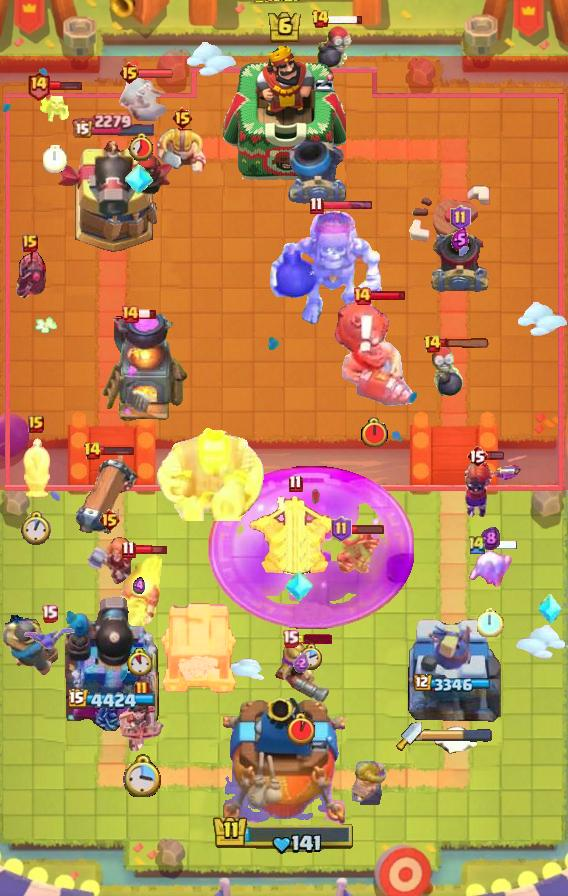bandit: (114, 69, 168, 121)
bar: (439, 338, 491, 349), (321, 200, 373, 211), (133, 543, 168, 556), (370, 290, 407, 301), (327, 14, 364, 25), (349, 524, 385, 535), (138, 68, 174, 79), (100, 445, 135, 456), (48, 80, 83, 91), (296, 634, 332, 644), (485, 540, 518, 550), (137, 308, 157, 320), (486, 450, 505, 461)
bar-level: (26, 70, 51, 101), (98, 508, 121, 532), (171, 106, 194, 130), (118, 61, 141, 85), (331, 516, 352, 542), (450, 205, 471, 231), (466, 444, 488, 468), (467, 534, 487, 555), (120, 304, 140, 324), (352, 286, 372, 306), (83, 441, 102, 461), (423, 334, 442, 354), (311, 9, 330, 29), (282, 629, 299, 648), (41, 604, 58, 623), (134, 680, 150, 700), (28, 415, 44, 433), (22, 234, 38, 252), (121, 540, 136, 559), (288, 474, 303, 493), (309, 196, 324, 215)
bat-evolution: (20, 627, 78, 653)
bomber: (316, 22, 354, 78), (430, 346, 466, 402)
cannoneer-tower: (53, 138, 175, 256), (65, 593, 163, 731)
clock: (123, 754, 162, 797), (21, 511, 51, 546), (287, 712, 315, 746), (360, 417, 389, 449), (477, 607, 504, 637), (128, 132, 155, 161), (127, 648, 152, 676), (43, 145, 67, 173), (300, 643, 323, 671)
dagger-duchess-tower: (405, 611, 501, 731)
dagger-duchess-tower-bar: (422, 729, 492, 743)
elite-barbarian: (156, 127, 208, 175), (352, 759, 388, 806)
elixir: (480, 526, 500, 551), (451, 228, 469, 251), (293, 653, 309, 673), (133, 577, 145, 595)
ice-spirit: (431, 724, 479, 754)
ice-spirit-evolution: (465, 549, 515, 587)
ice-spirit-evolution-symbol: (285, 569, 313, 603), (125, 162, 153, 196), (537, 593, 563, 625)
king-tower: (223, 44, 346, 181), (223, 698, 345, 826)
king-tower-bar: (212, 814, 356, 856)
knight: (0, 615, 58, 676)
mini-pekka: (9, 248, 51, 302)
mortar: (429, 228, 491, 296), (288, 140, 348, 204)
musketeer: (272, 636, 330, 706)
princess: (117, 693, 167, 751)
royal-hog: (20, 437, 52, 501)
skeleton: (40, 90, 70, 124)
spear-goblin: (335, 527, 379, 575)
tower-bar: (72, 112, 157, 138), (69, 689, 160, 712), (414, 674, 493, 694)
valkyrie: (84, 537, 134, 585)
valkyrie-evolution: (460, 456, 522, 518)
wizard: (113, 554, 165, 626)
